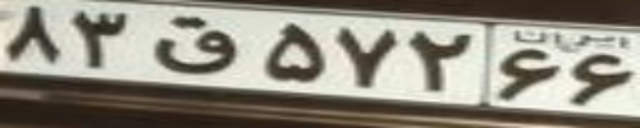2: (408, 32, 480, 91)
3: (71, 9, 127, 68)
5: (262, 23, 325, 82)
6: (566, 52, 634, 106), (496, 46, 559, 101)
7: (336, 26, 398, 87)
8: (6, 5, 58, 64)
ghaf: (151, 16, 238, 74)
